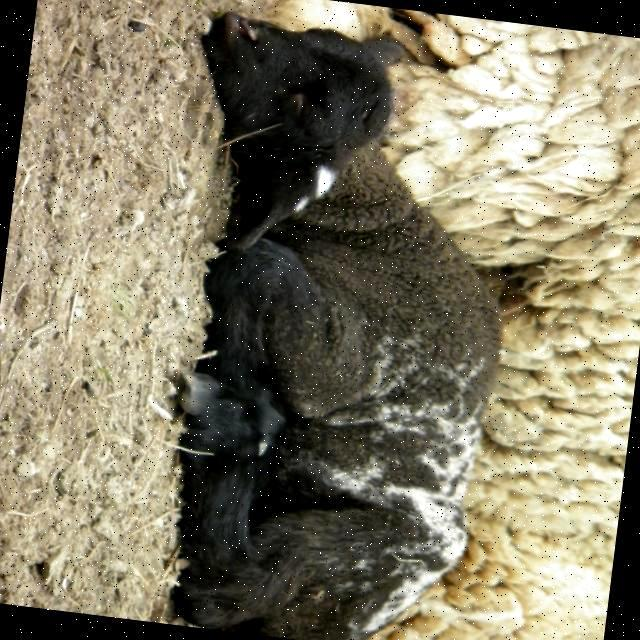sheep: (171, 11, 501, 640)
